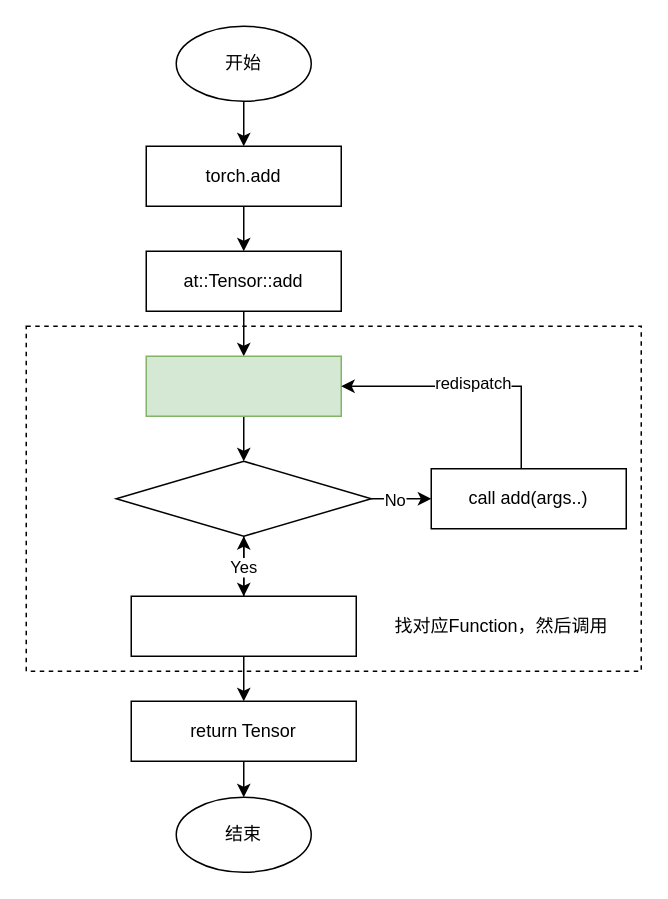
Image size: 668x899. Some labels were removed from this diagram. Here are the shapes that lost their labels. From the top down, the centre of each, then its label:
At point (243, 385): "Dispatcher".
At point (243, 498): "End Function?".
At point (243, 625): "call final add(args...)".
